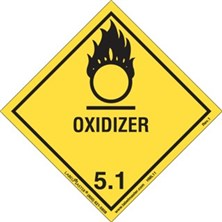Oxidizer: (1, 1, 221, 222)
